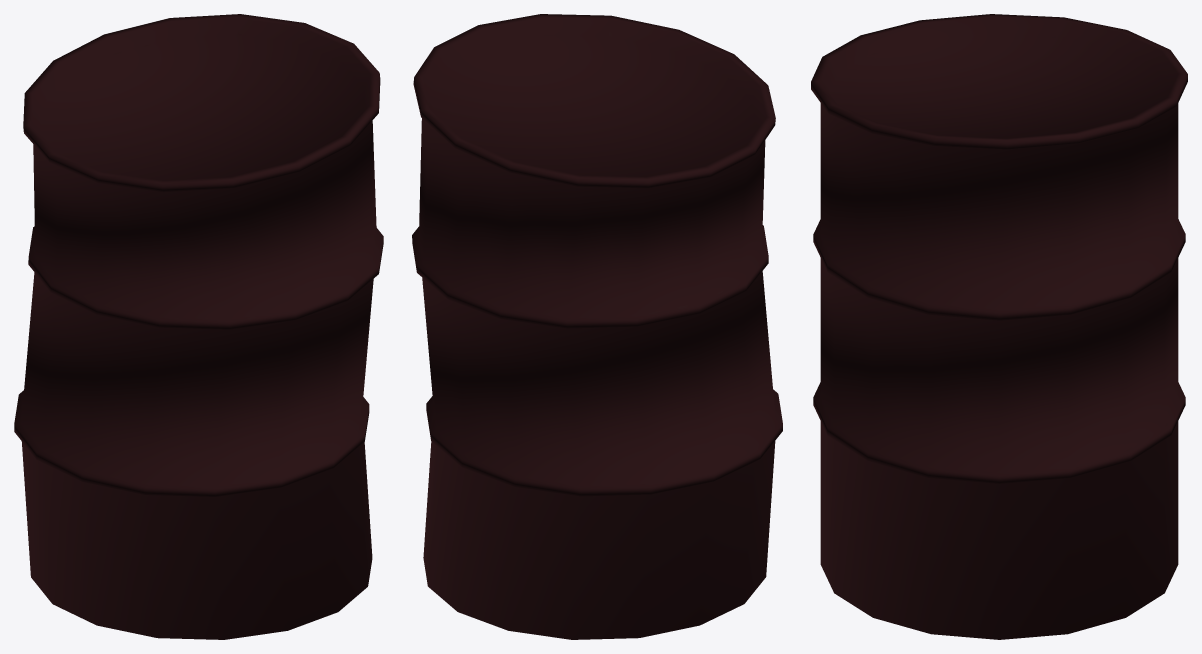
File: bent_barrel.fbx
3 views of the same model, side by side, from view 1: azimuth 30°, elevation 25°; view 2: azimuth 150°, elevation 25°; view 3: azimuth 270°, elevation 25° (orthographic). The views are drawn at different scales.
Visible parts, largest first — view 1: bent_barrel; view 2: bent_barrel; view 3: bent_barrel.
Part boxes in pixels (bbox=[...]): bent_barrel: bbox=[14, 14, 383, 639]; bent_barrel: bbox=[412, 14, 782, 639]; bent_barrel: bbox=[811, 14, 1187, 639].
Size of the model in its own units: 218 by 310 by 211.
